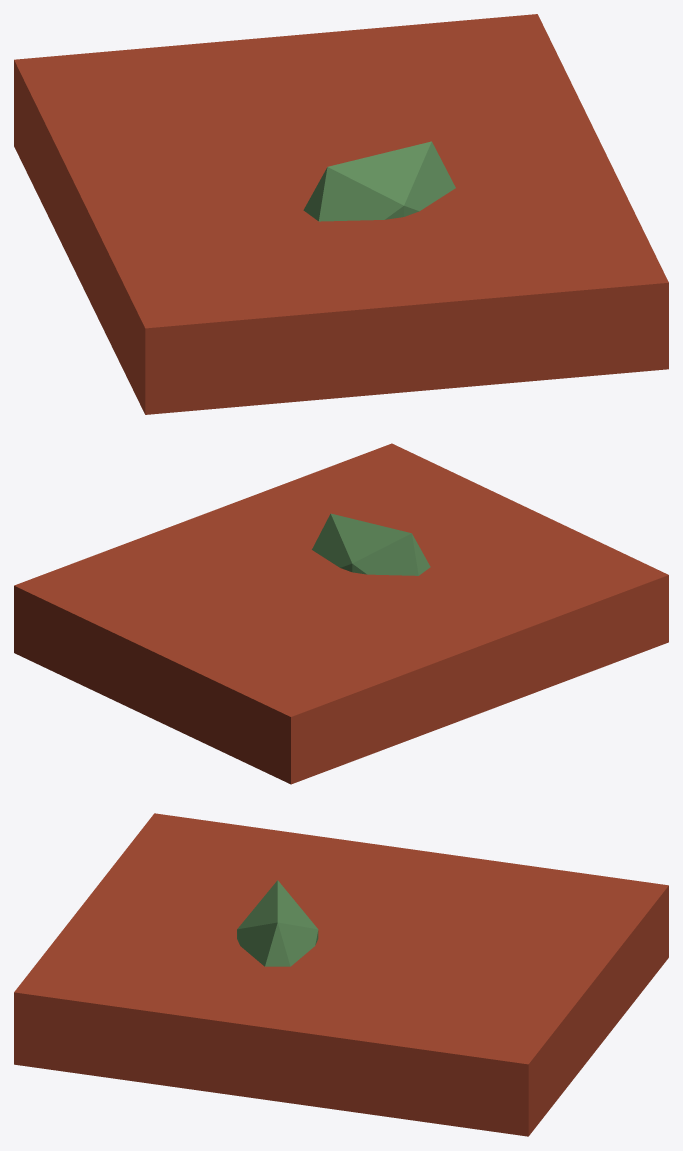
Rendered from off_05_ember_ward.glb.
3 views of the same model, one above another, from view 1: azimuth 30°, elevation 25°; view 2: azimuth 150°, elevation 25°; view 3: azimuth 270°, elevation 25° (orthographic). The views are drawn at different scales.
Visible parts, largest first — view 1: shield, shield_boss; view 2: shield, shield_boss; view 3: shield, shield_boss.
Boxes of the visible parts, box(x1,y1,x2,y2) form: shield: box(14, 14, 668, 414); shield_boss: box(303, 141, 455, 221); shield: box(14, 443, 668, 784); shield_boss: box(312, 513, 430, 575); shield: box(14, 813, 668, 1136); shield_boss: box(237, 880, 318, 966).
Bounding box in the file's own units: 0.7455 × 0.2042 × 0.8216.
